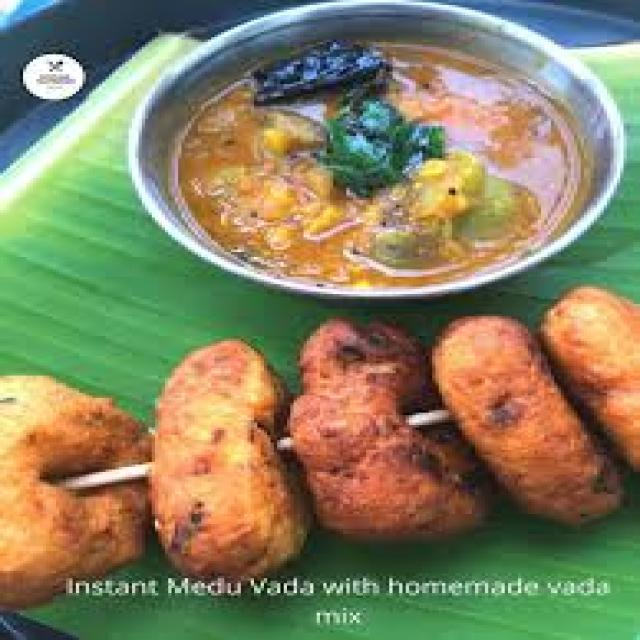MEDU VADA: (298, 317, 493, 540), (147, 328, 303, 586), (433, 322, 612, 525), (5, 374, 147, 611), (542, 290, 637, 472)
